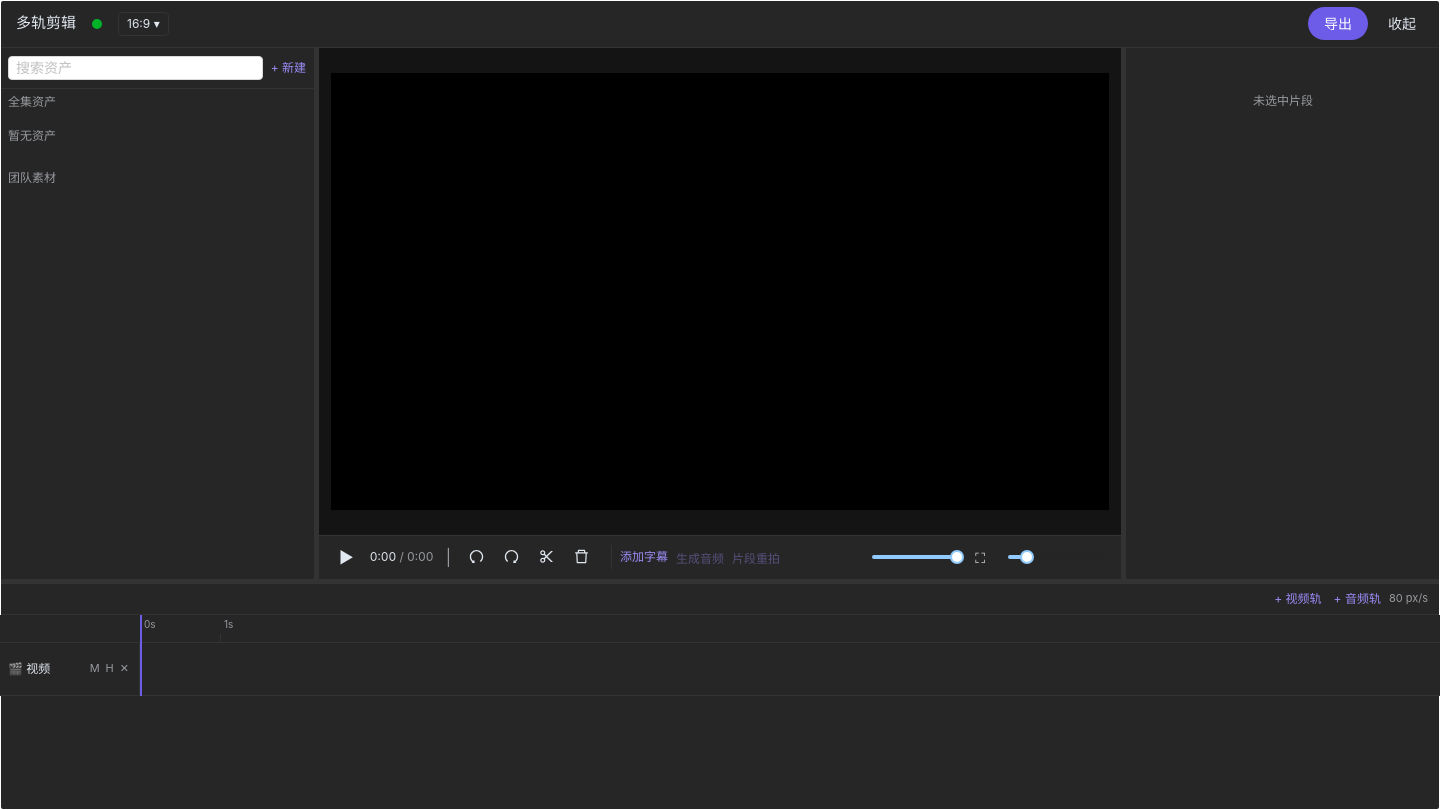
Scenario: VideoEditorShell › P0-A 回归：壳内 antd 弹层挂载容器归属壳节点（删 Shell 的 ConfigProvider 后此用例必红）
Expected: the element with test id "timeline-panel" is shown, left=0, top=583, right=1439, bottom=809
Click the button "导出" at point(1338, 24), box left=1308, top=7, right=1368, bottom=40
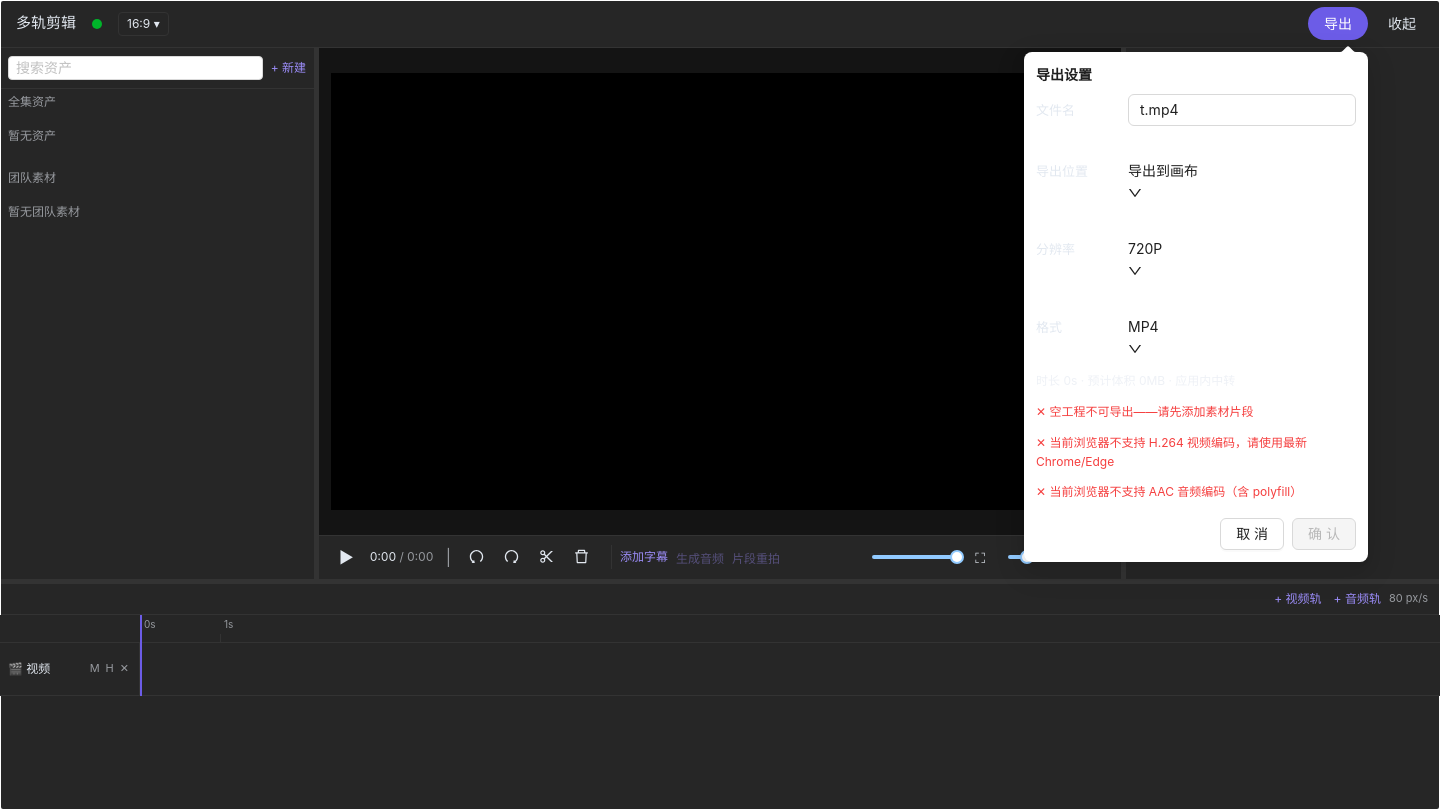
Result: the element that starts with "导出设置" is shown at left=1024, top=52, right=1368, bottom=562
